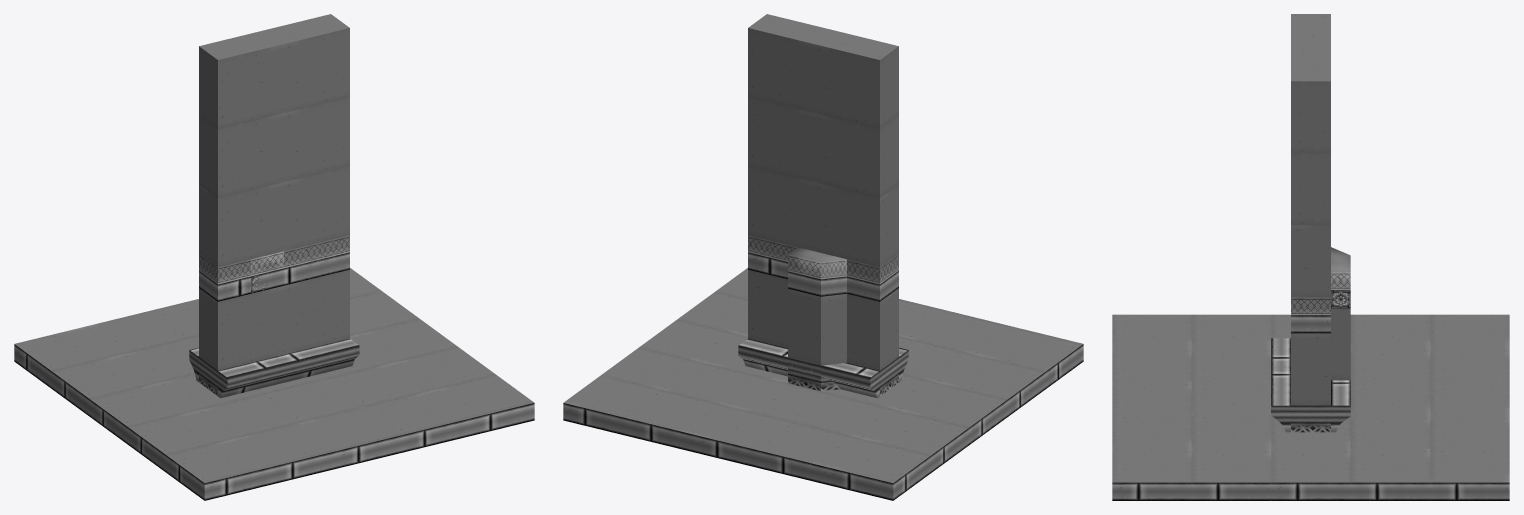
The model's file is LumberwoodWalls.glb.
The picture shows the model from 3 angles, left to right: view 1: azimuth 30°, elevation 25°; view 2: azimuth 150°, elevation 25°; view 3: azimuth 270°, elevation 25°; orthographic projection. The views are drawn at different scales.
Parts seen in each view (by area): view 1: X10BasicFloor-col, Y10X4BasicWall-col, X4BasicWall-col, X2BasicWall-col, X4Railing-col, X1BasicWallCorner-col; view 2: X10BasicFloor-col, Y10X4BasicWall-col, X4BasicWall-col, X1BasicWallCorner-col, X4Railing-col, X2BasicWall-col; view 3: X10BasicFloor-col, Y10X4BasicWall-col, X4BasicWall-col, X4Railing-col, X1BasicWallCorner-col.
Boxes of the visible parts, x1,y1,x2,y2 form: X10BasicFloor-col: (14,268,534,500); Y10X4BasicWall-col: (199,14,349,348); X4BasicWall-col: (199,235,349,395); X2BasicWall-col: (252,243,316,354); X4Railing-col: (189,339,359,398); X1BasicWallCorner-col: (251,251,283,362); X10BasicFloor-col: (563,268,1083,500); Y10X4BasicWall-col: (748,14,898,369); X4BasicWall-col: (748,235,898,395); X1BasicWallCorner-col: (788,247,846,391); X4Railing-col: (738,339,908,398); X2BasicWall-col: (781,243,796,348); X10BasicFloor-col: (1112,314,1509,500); Y10X4BasicWall-col: (1291,14,1330,297); X4BasicWall-col: (1291,297,1330,432); X4Railing-col: (1271,338,1350,432); X1BasicWallCorner-col: (1331,247,1350,380).
Bounding box in the file's own units: 10 × 10.25 × 10.
1 material, 1 textured.
